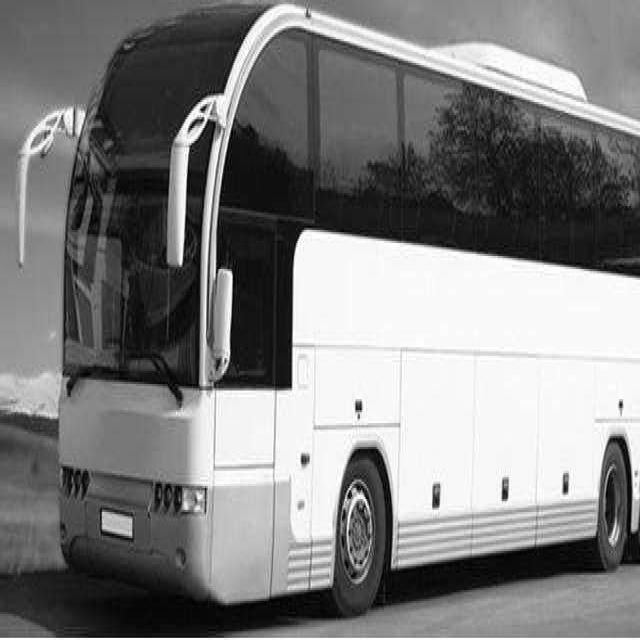Bus: (19, 6, 640, 612)
